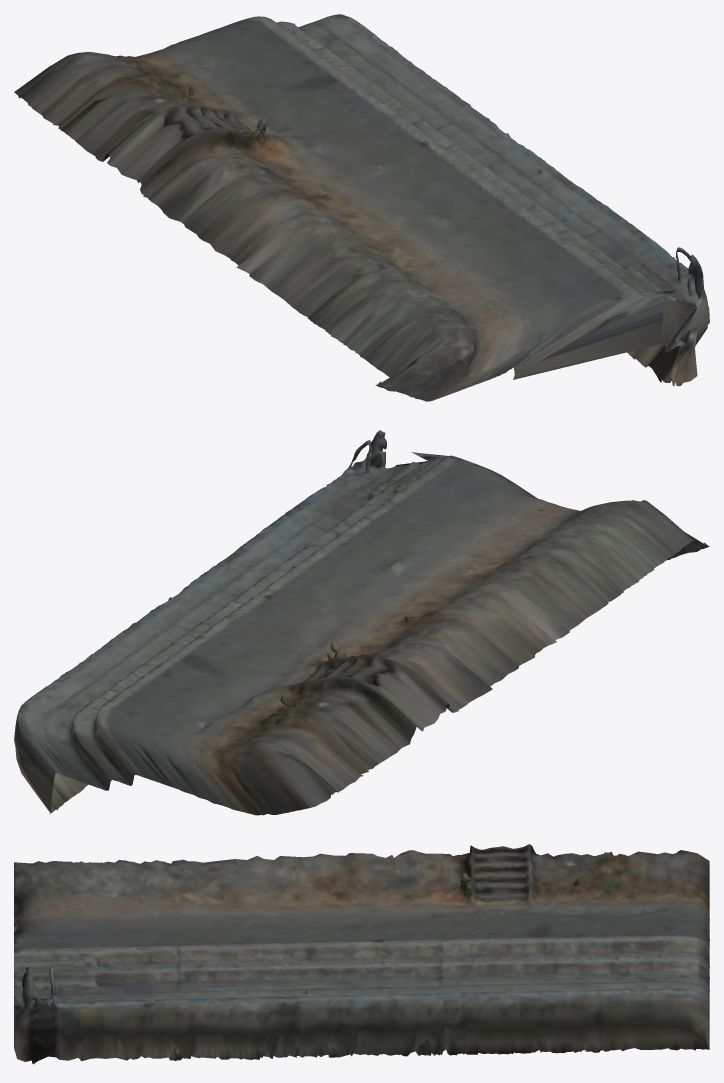
File: run4_p1_c1.glb
3 renders of one model, top to bottom at view 1: azimuth 30°, elevation 25°; view 2: azimuth 150°, elevation 25°; view 3: azimuth 270°, elevation 25°, orthographic. The views are drawn at different scales.
Visible parts, largest first — view 1: run4_p1_straight_c1; view 2: run4_p1_straight_c1; view 3: run4_p1_straight_c1.
Part boxes in pixels (<box>): run4_p1_straight_c1: <box>14,14,709,401</box>; run4_p1_straight_c1: <box>14,430,709,815</box>; run4_p1_straight_c1: <box>14,844,709,1064</box>.
Bounding box in the file's own units: 10.51 × 3.81 × 20.01.
Materials: 1 (1 with a texture image).
